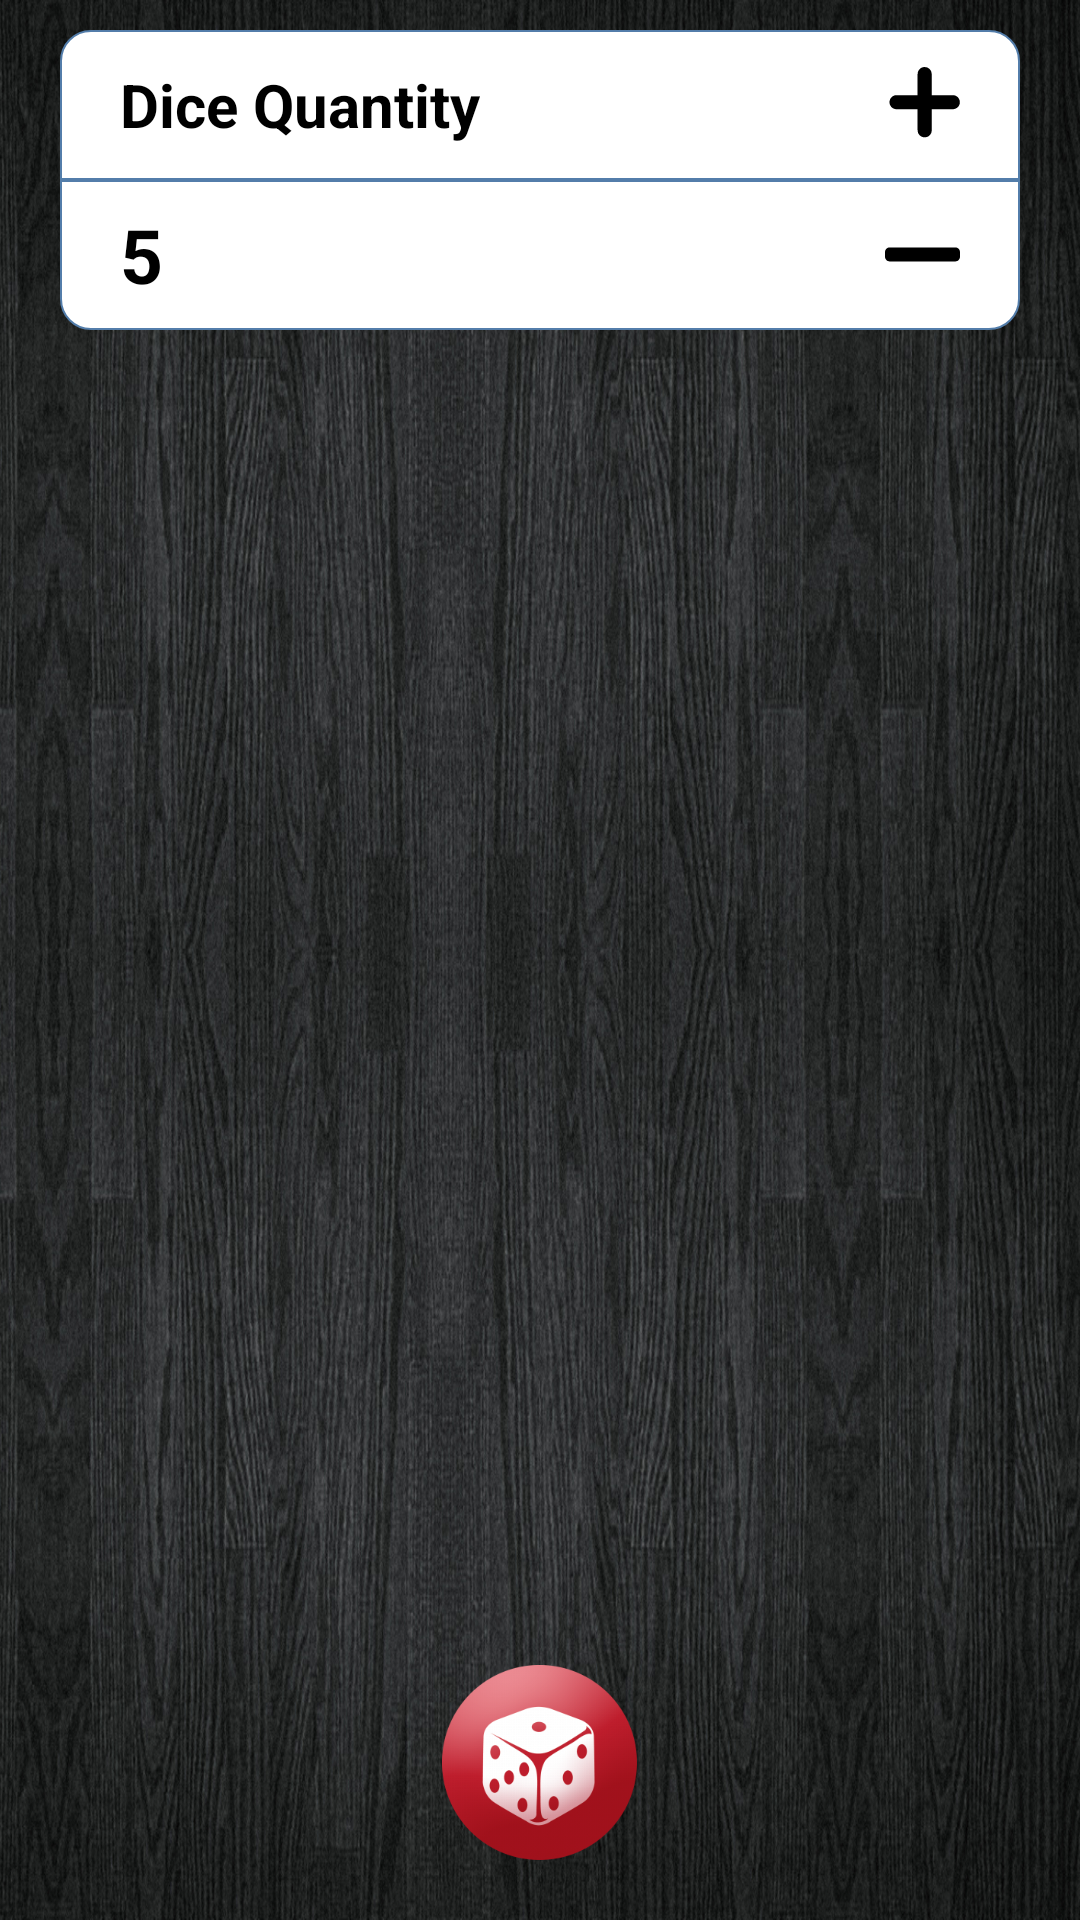

Where icons sit on this 1080w x 1920h app screen, as {"x1": x1, "y1": y1, "x2": x2, "y2": y2}:
decisionsdk dice start: {"x1": 442, "y1": 1665, "x2": 637, "y2": 1860}
dice jia: {"x1": 889, "y1": 67, "x2": 960, "y2": 138}
dice jian: {"x1": 885, "y1": 247, "x2": 960, "y2": 262}
